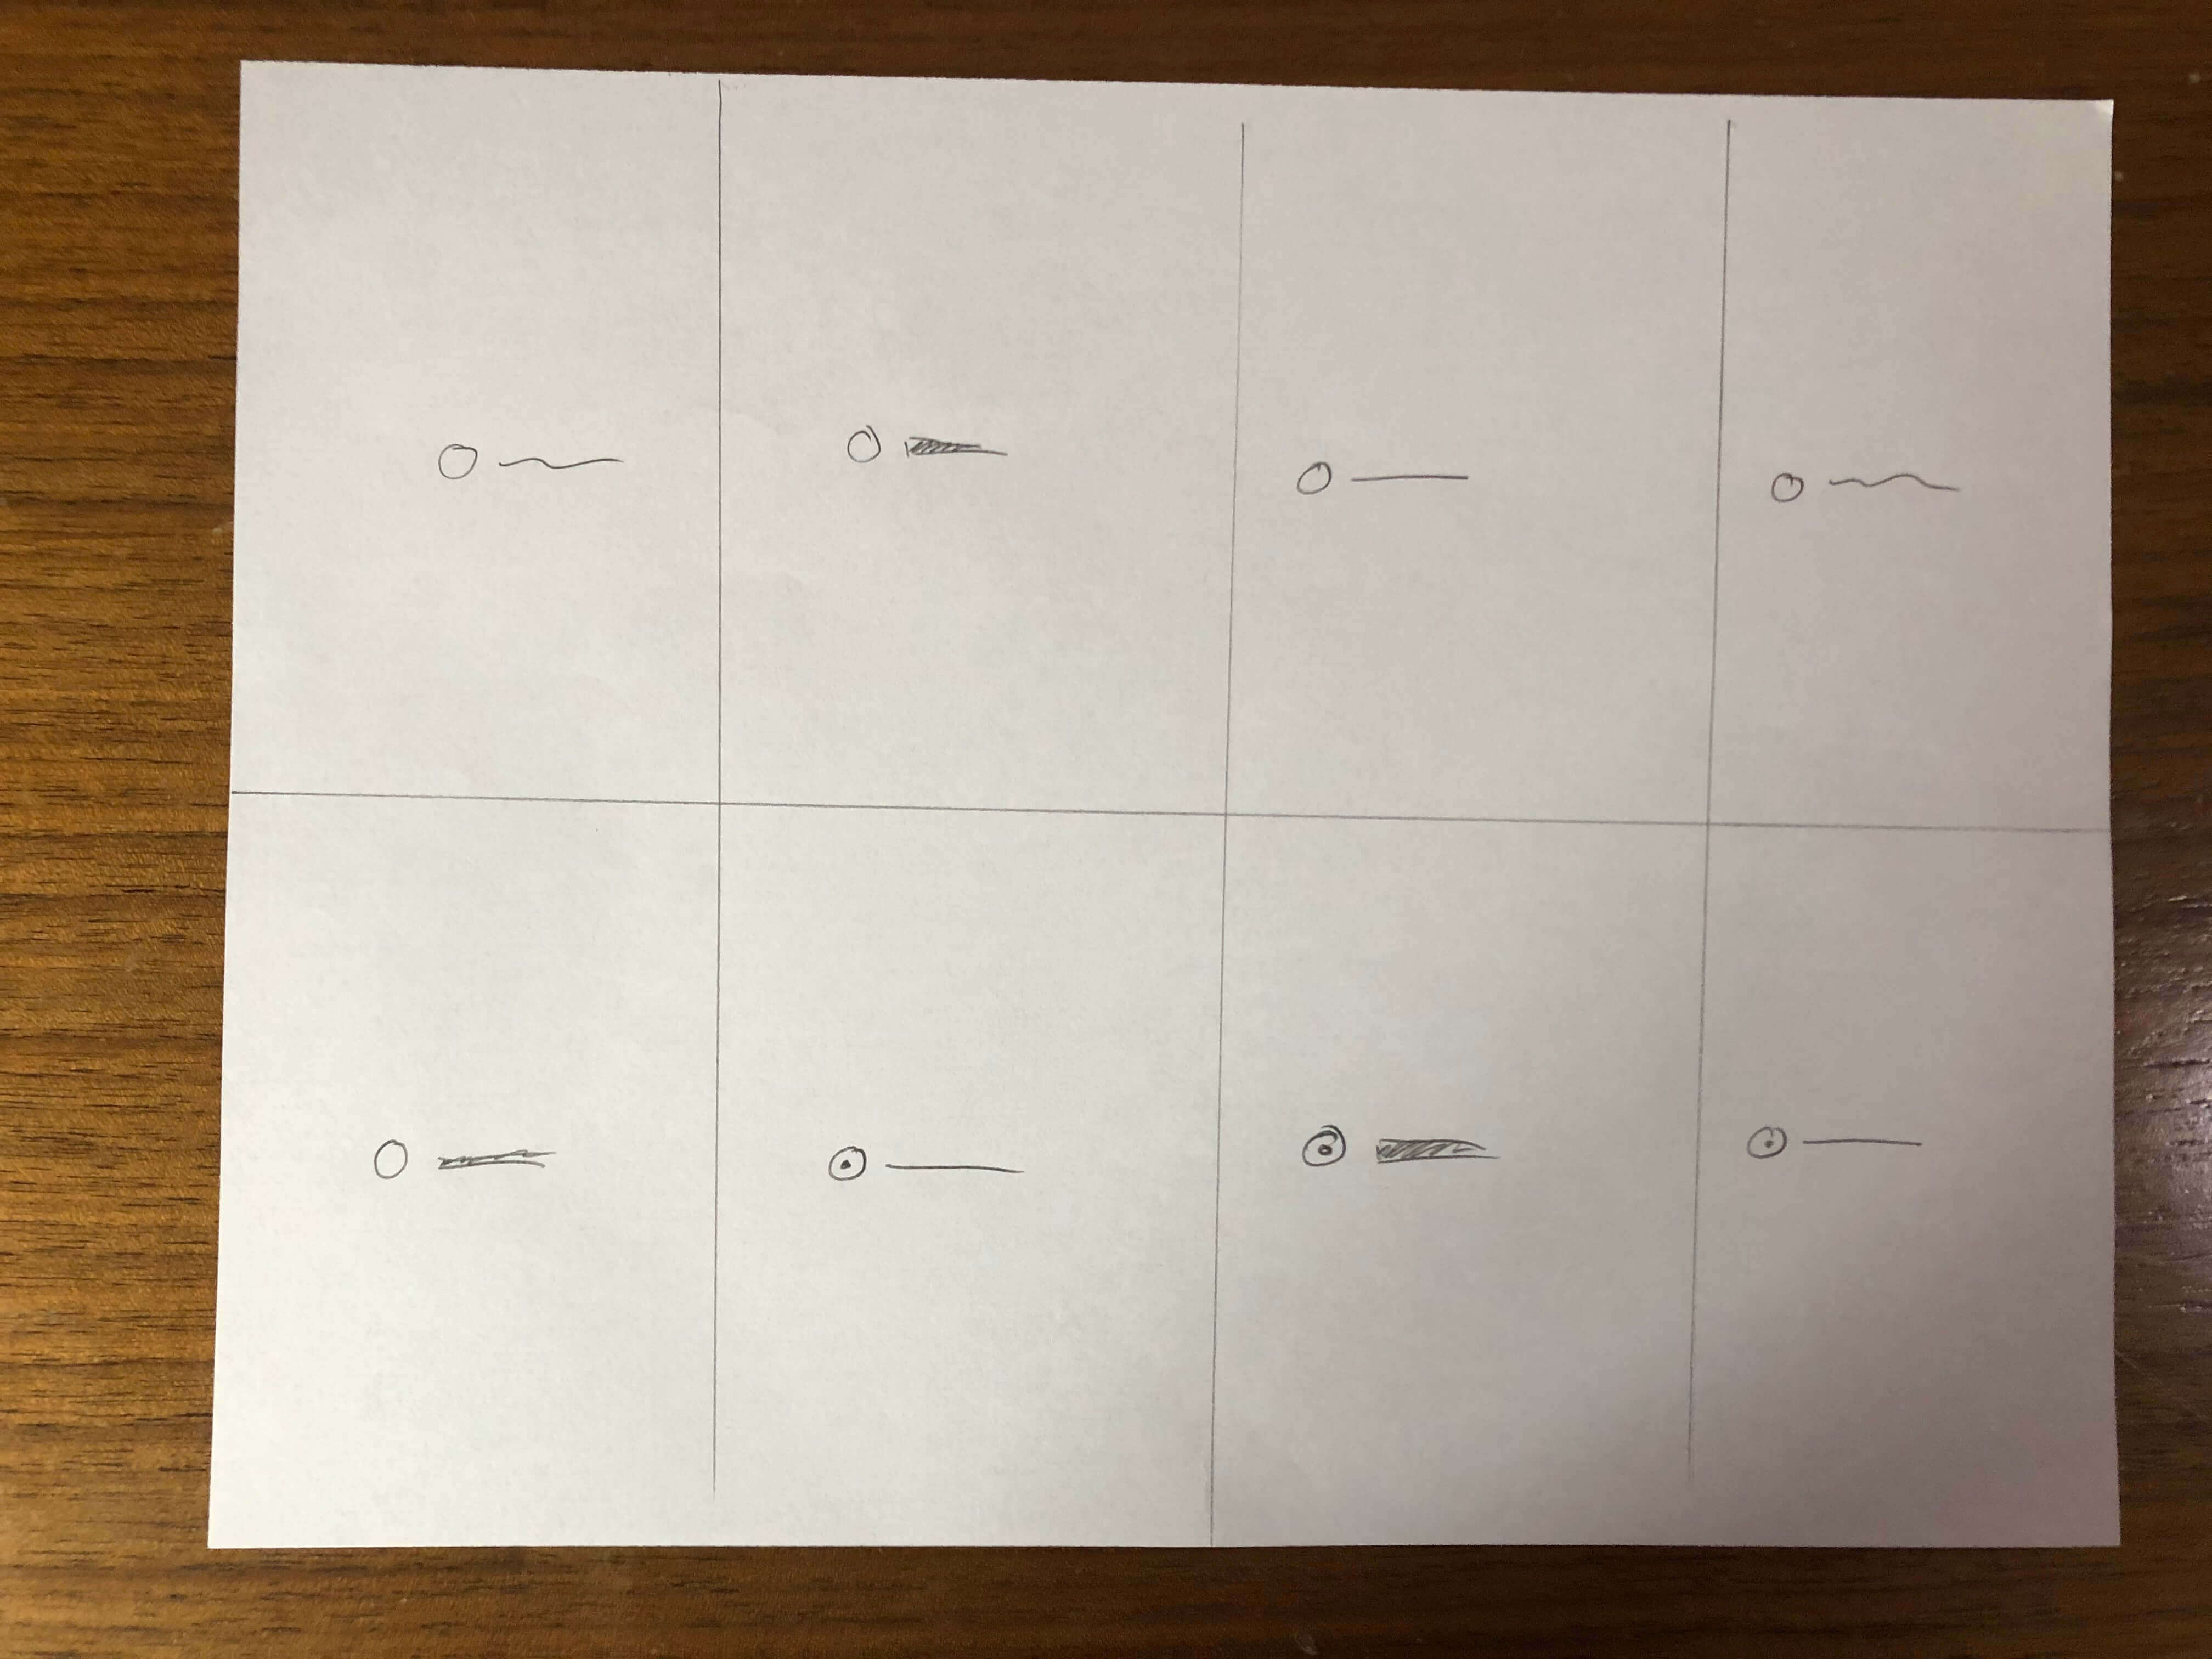radio-button: (1292, 1115, 1519, 1185), (1737, 1112, 1951, 1176), (819, 1134, 1035, 1197), (435, 430, 627, 498), (838, 415, 1022, 484), (359, 1127, 570, 1185), (1768, 457, 1963, 518), (1284, 451, 1480, 504)
